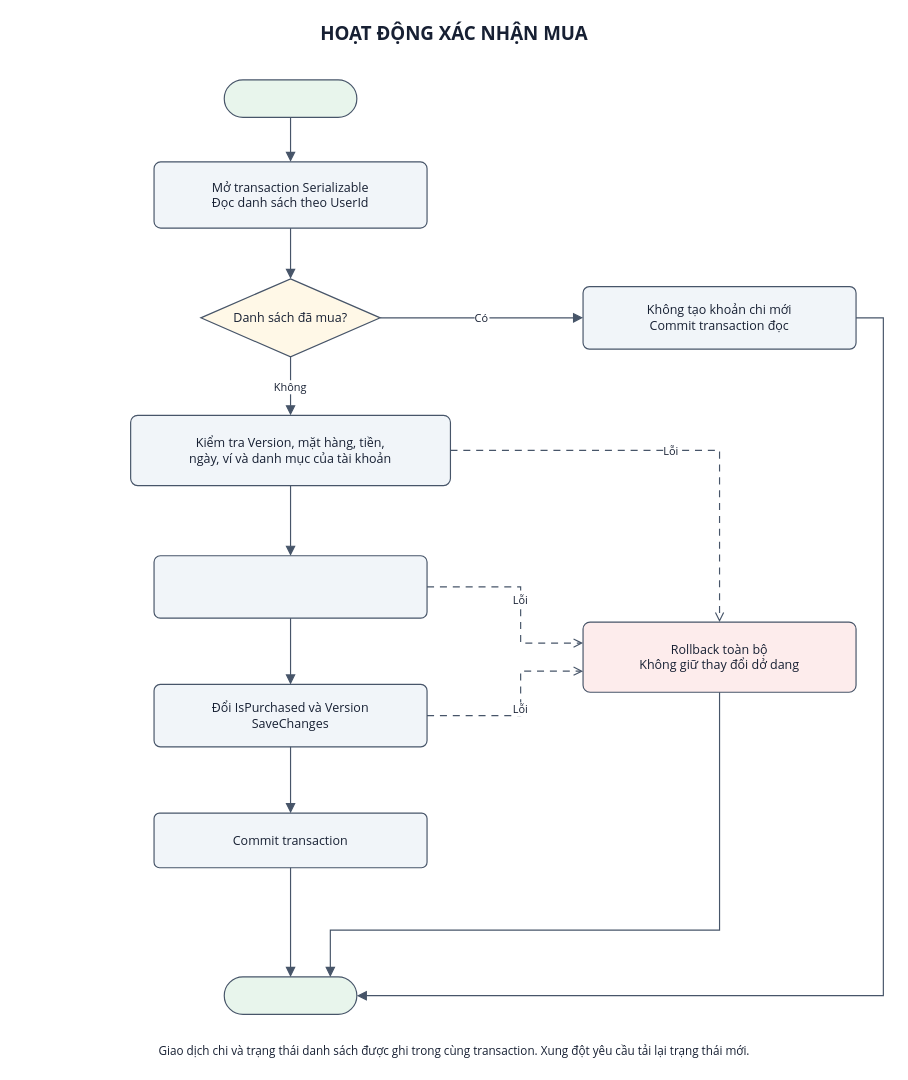
Some shapes in this 908 by 1080 pixel diagram are drawn without their labels. Here are the shapes that lost their labels. From the top down, the box of each, then its label:
(223, 79, 357, 118): Bắt đầu
(153, 555, 427, 618): Tạo khoản chi liên kết SaveChanges
(223, 976, 357, 1015): Kết thúc
